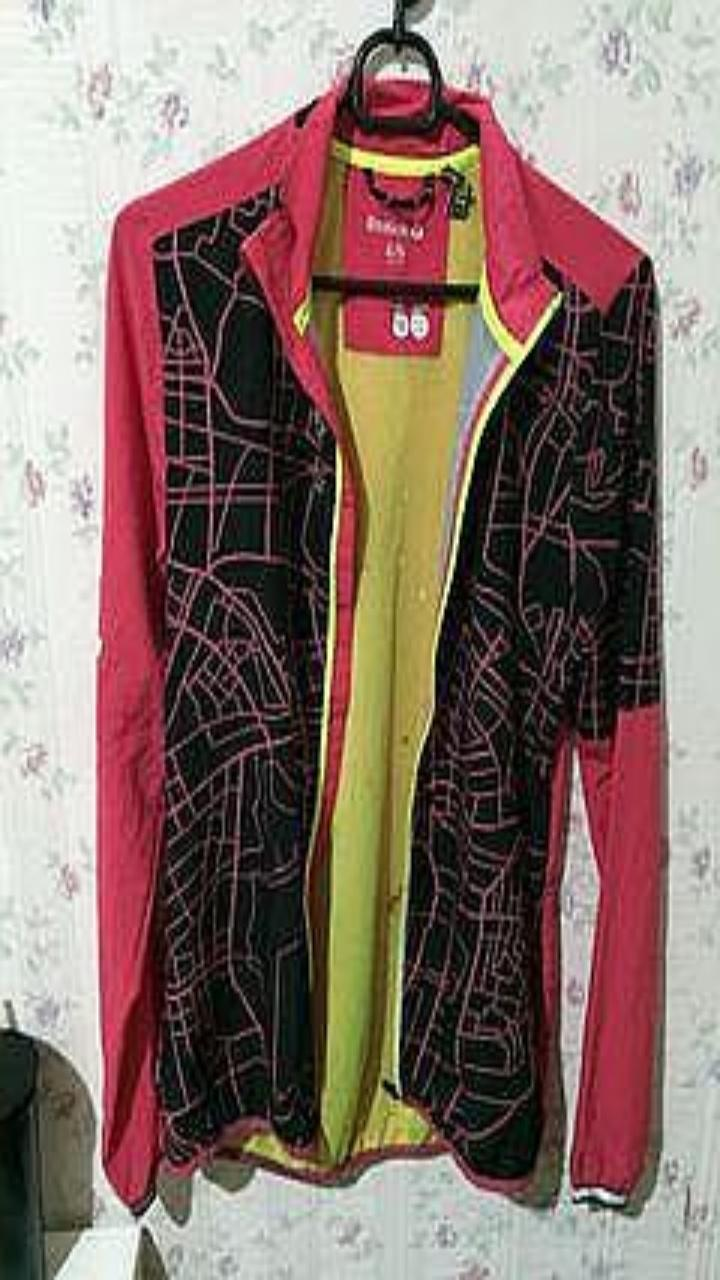Sports_Jacket: (96, 79, 661, 1212)
